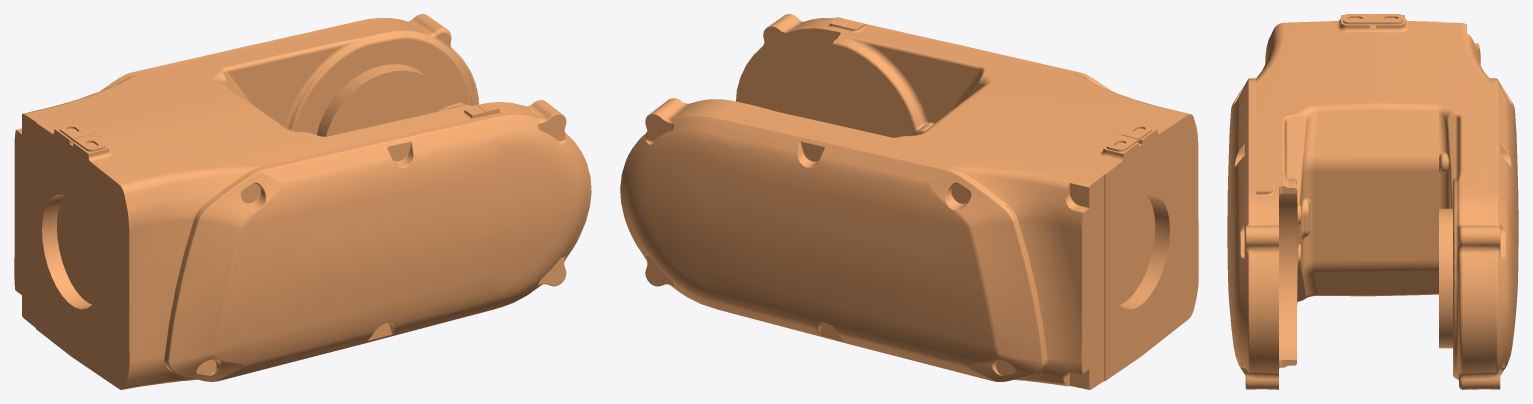
3 views of the same model, side by side, from view 1: azimuth 30°, elevation 25°; view 2: azimuth 150°, elevation 25°; view 3: azimuth 270°, elevation 25° (orthographic). The views are drawn at different scales.
Parts seen in each view (by area): view 1: R7-900_JOINT4; view 2: R7-900_JOINT4; view 3: R7-900_JOINT4.
Part boxes in pixels (left/top/right/bottom): R7-900_JOINT4: left=14, top=14, right=591, bottom=389; R7-900_JOINT4: left=620, top=14, right=1198, bottom=389; R7-900_JOINT4: left=1227, top=14, right=1518, bottom=389.
Bounding box in the file's own units: 0.2457 × 0.1459 × 0.112.
